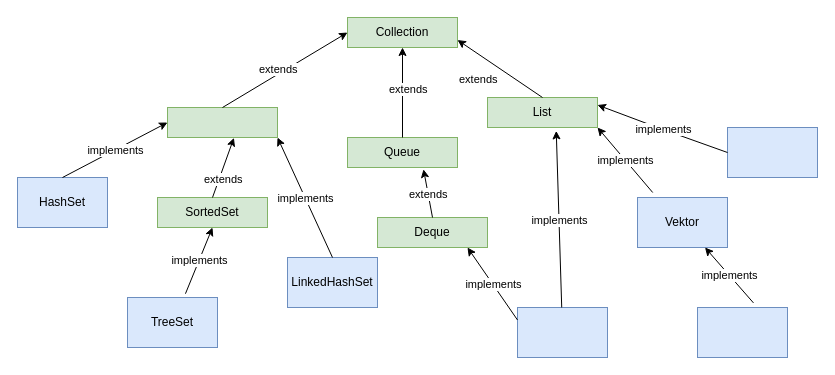
The diagram is 835 pixels wide and 375 high, and some of its shapes have lost their labels. Here are the shapes that lost their labels. From the top down, the centre of each, then its label:
At pixel 222 122: "Set".
At pixel 772 152: "ArrayList".
At pixel 562 332: "LinkedList".
At pixel 742 332: "Stack".
